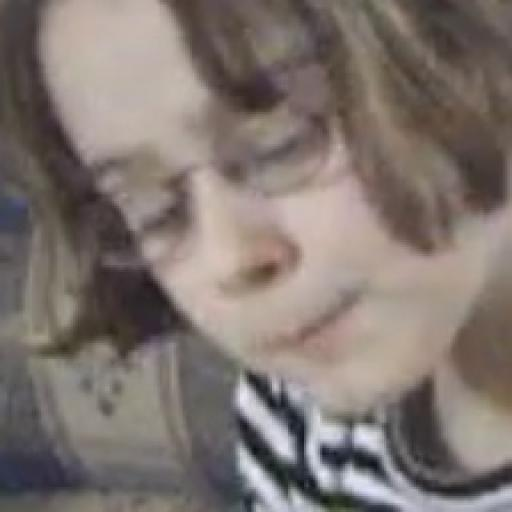Autism: (20, 0, 503, 501)
